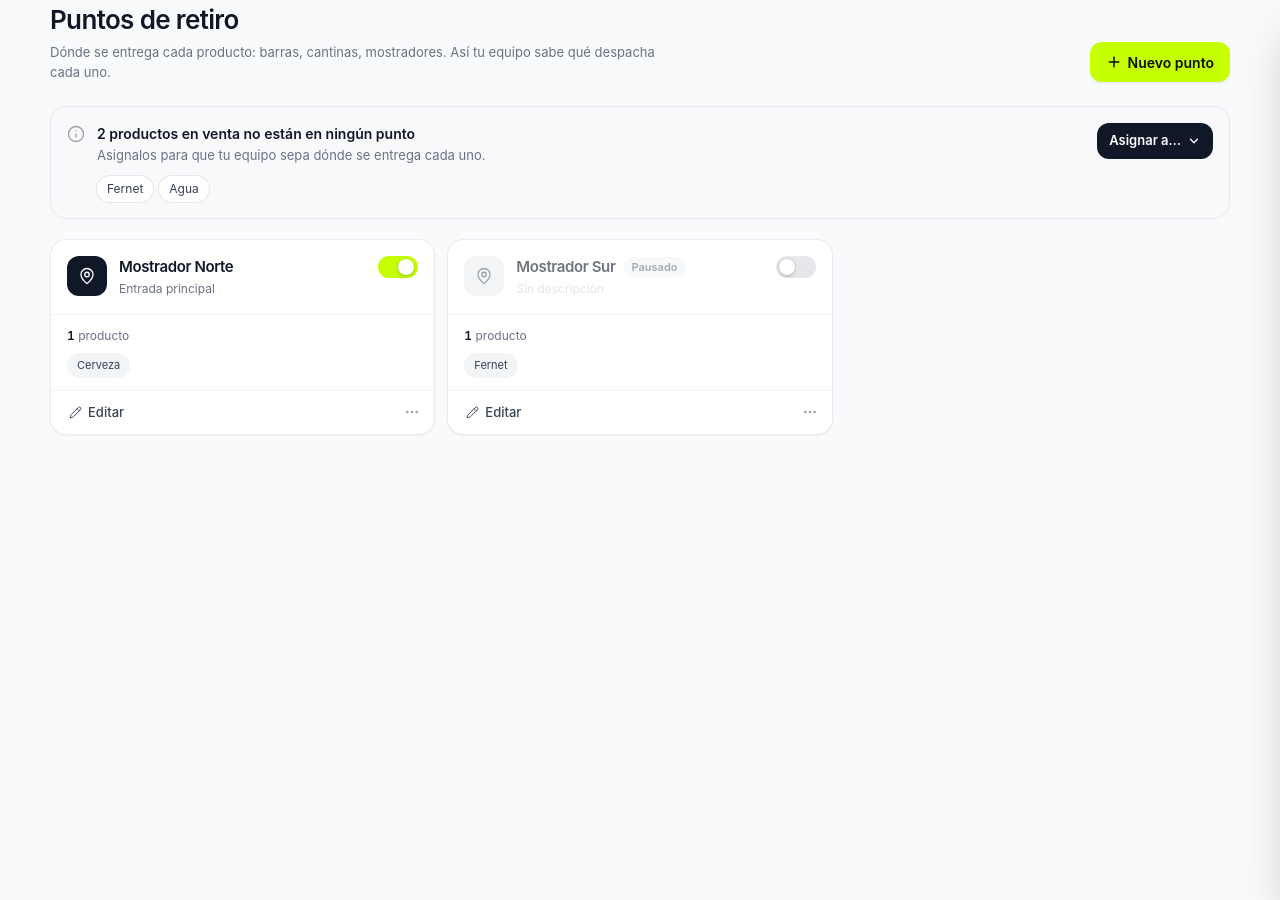
PickupPointsView › cobertura › "Asignar a…" abre el punto elegido con esos productos sumados
Click the button "Asignar a…" at (1155, 141), box [1097, 123, 1213, 159]
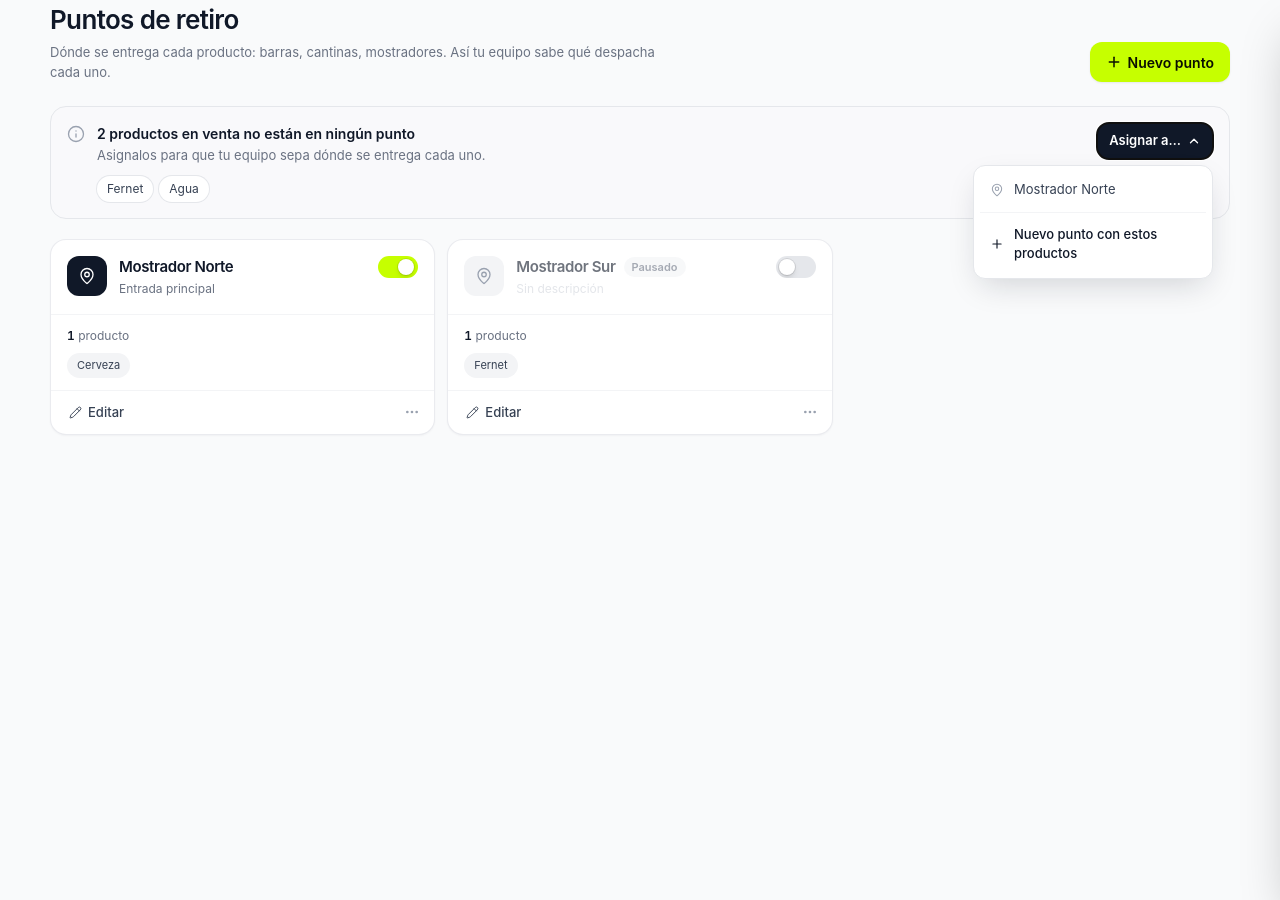
Click the menu item "Mostrador Norte" at (1093, 190), box [980, 172, 1206, 208]
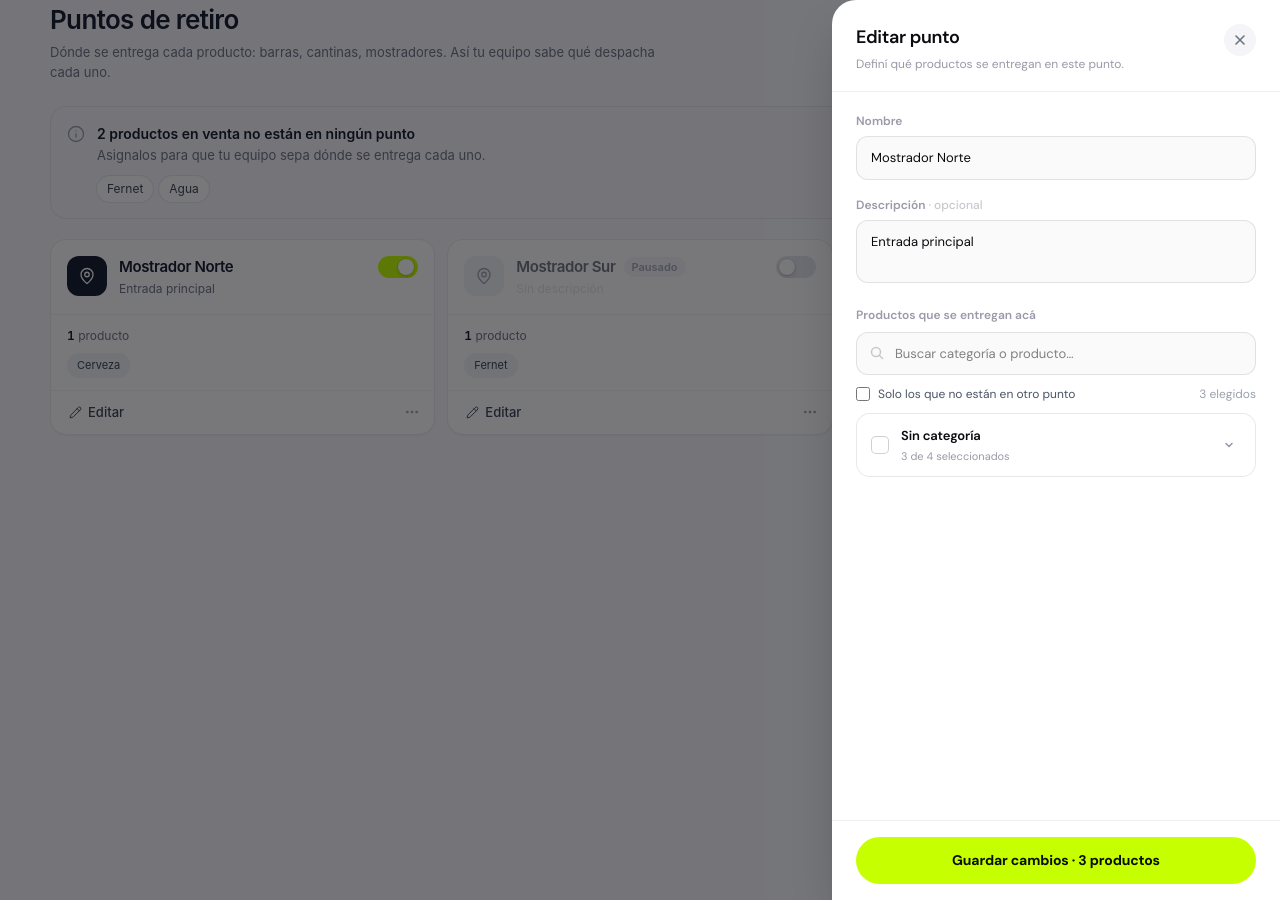
Result: the text "3 elegidos" is shown at [1199, 385, 1256, 403]
Result: the button "Guardar cambios · 3 productos" is shown at [856, 837, 1256, 884]
